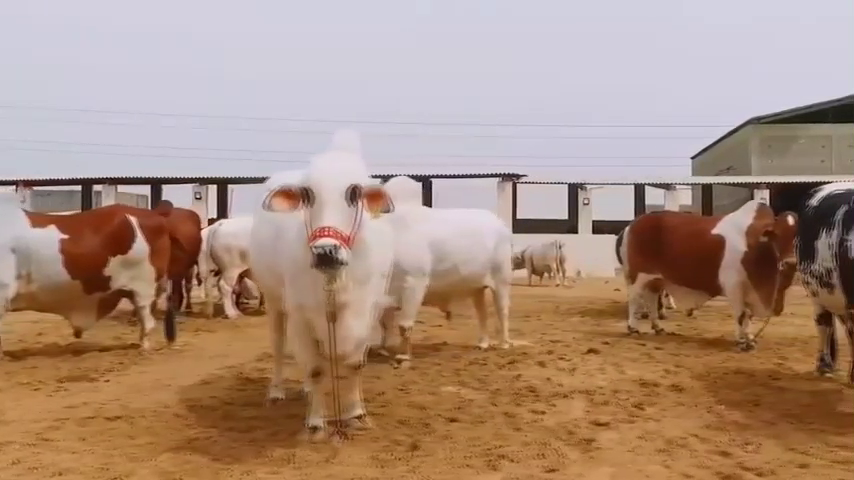bo: (253, 119, 389, 445), (602, 183, 802, 355), (1, 184, 172, 368), (377, 176, 523, 370), (789, 152, 854, 394), (192, 199, 261, 331), (155, 194, 204, 328), (510, 234, 576, 291)
